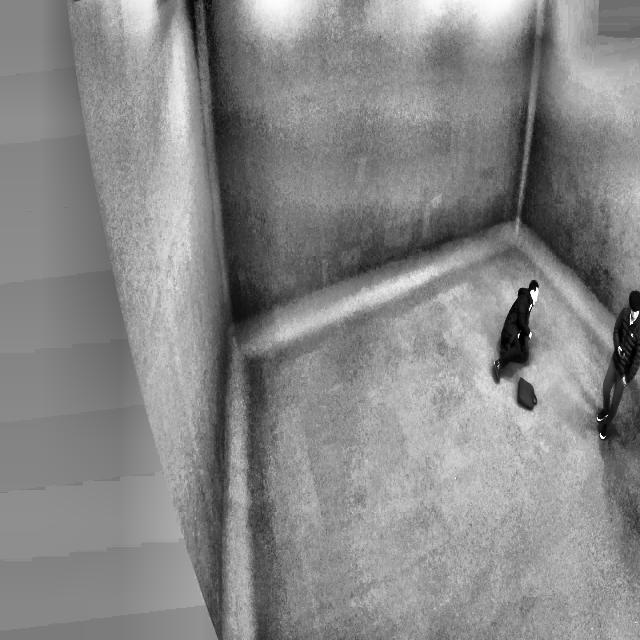assult: (491, 276, 640, 438), (494, 277, 541, 382)
